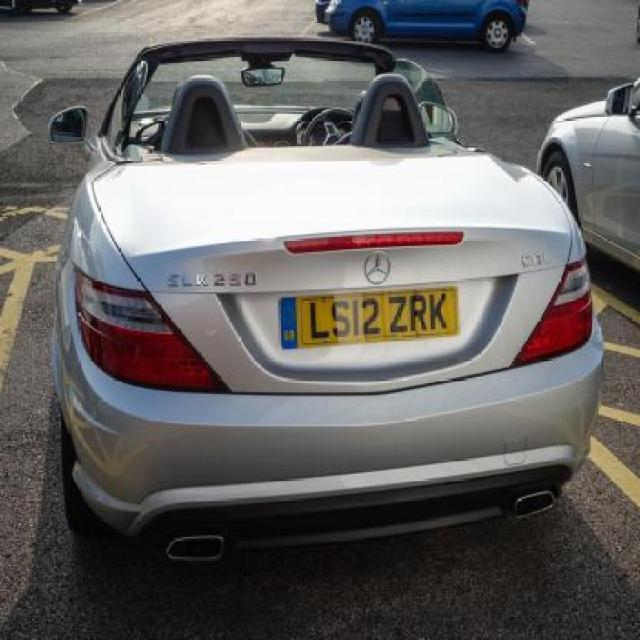License-Plates: (279, 285, 460, 350)
